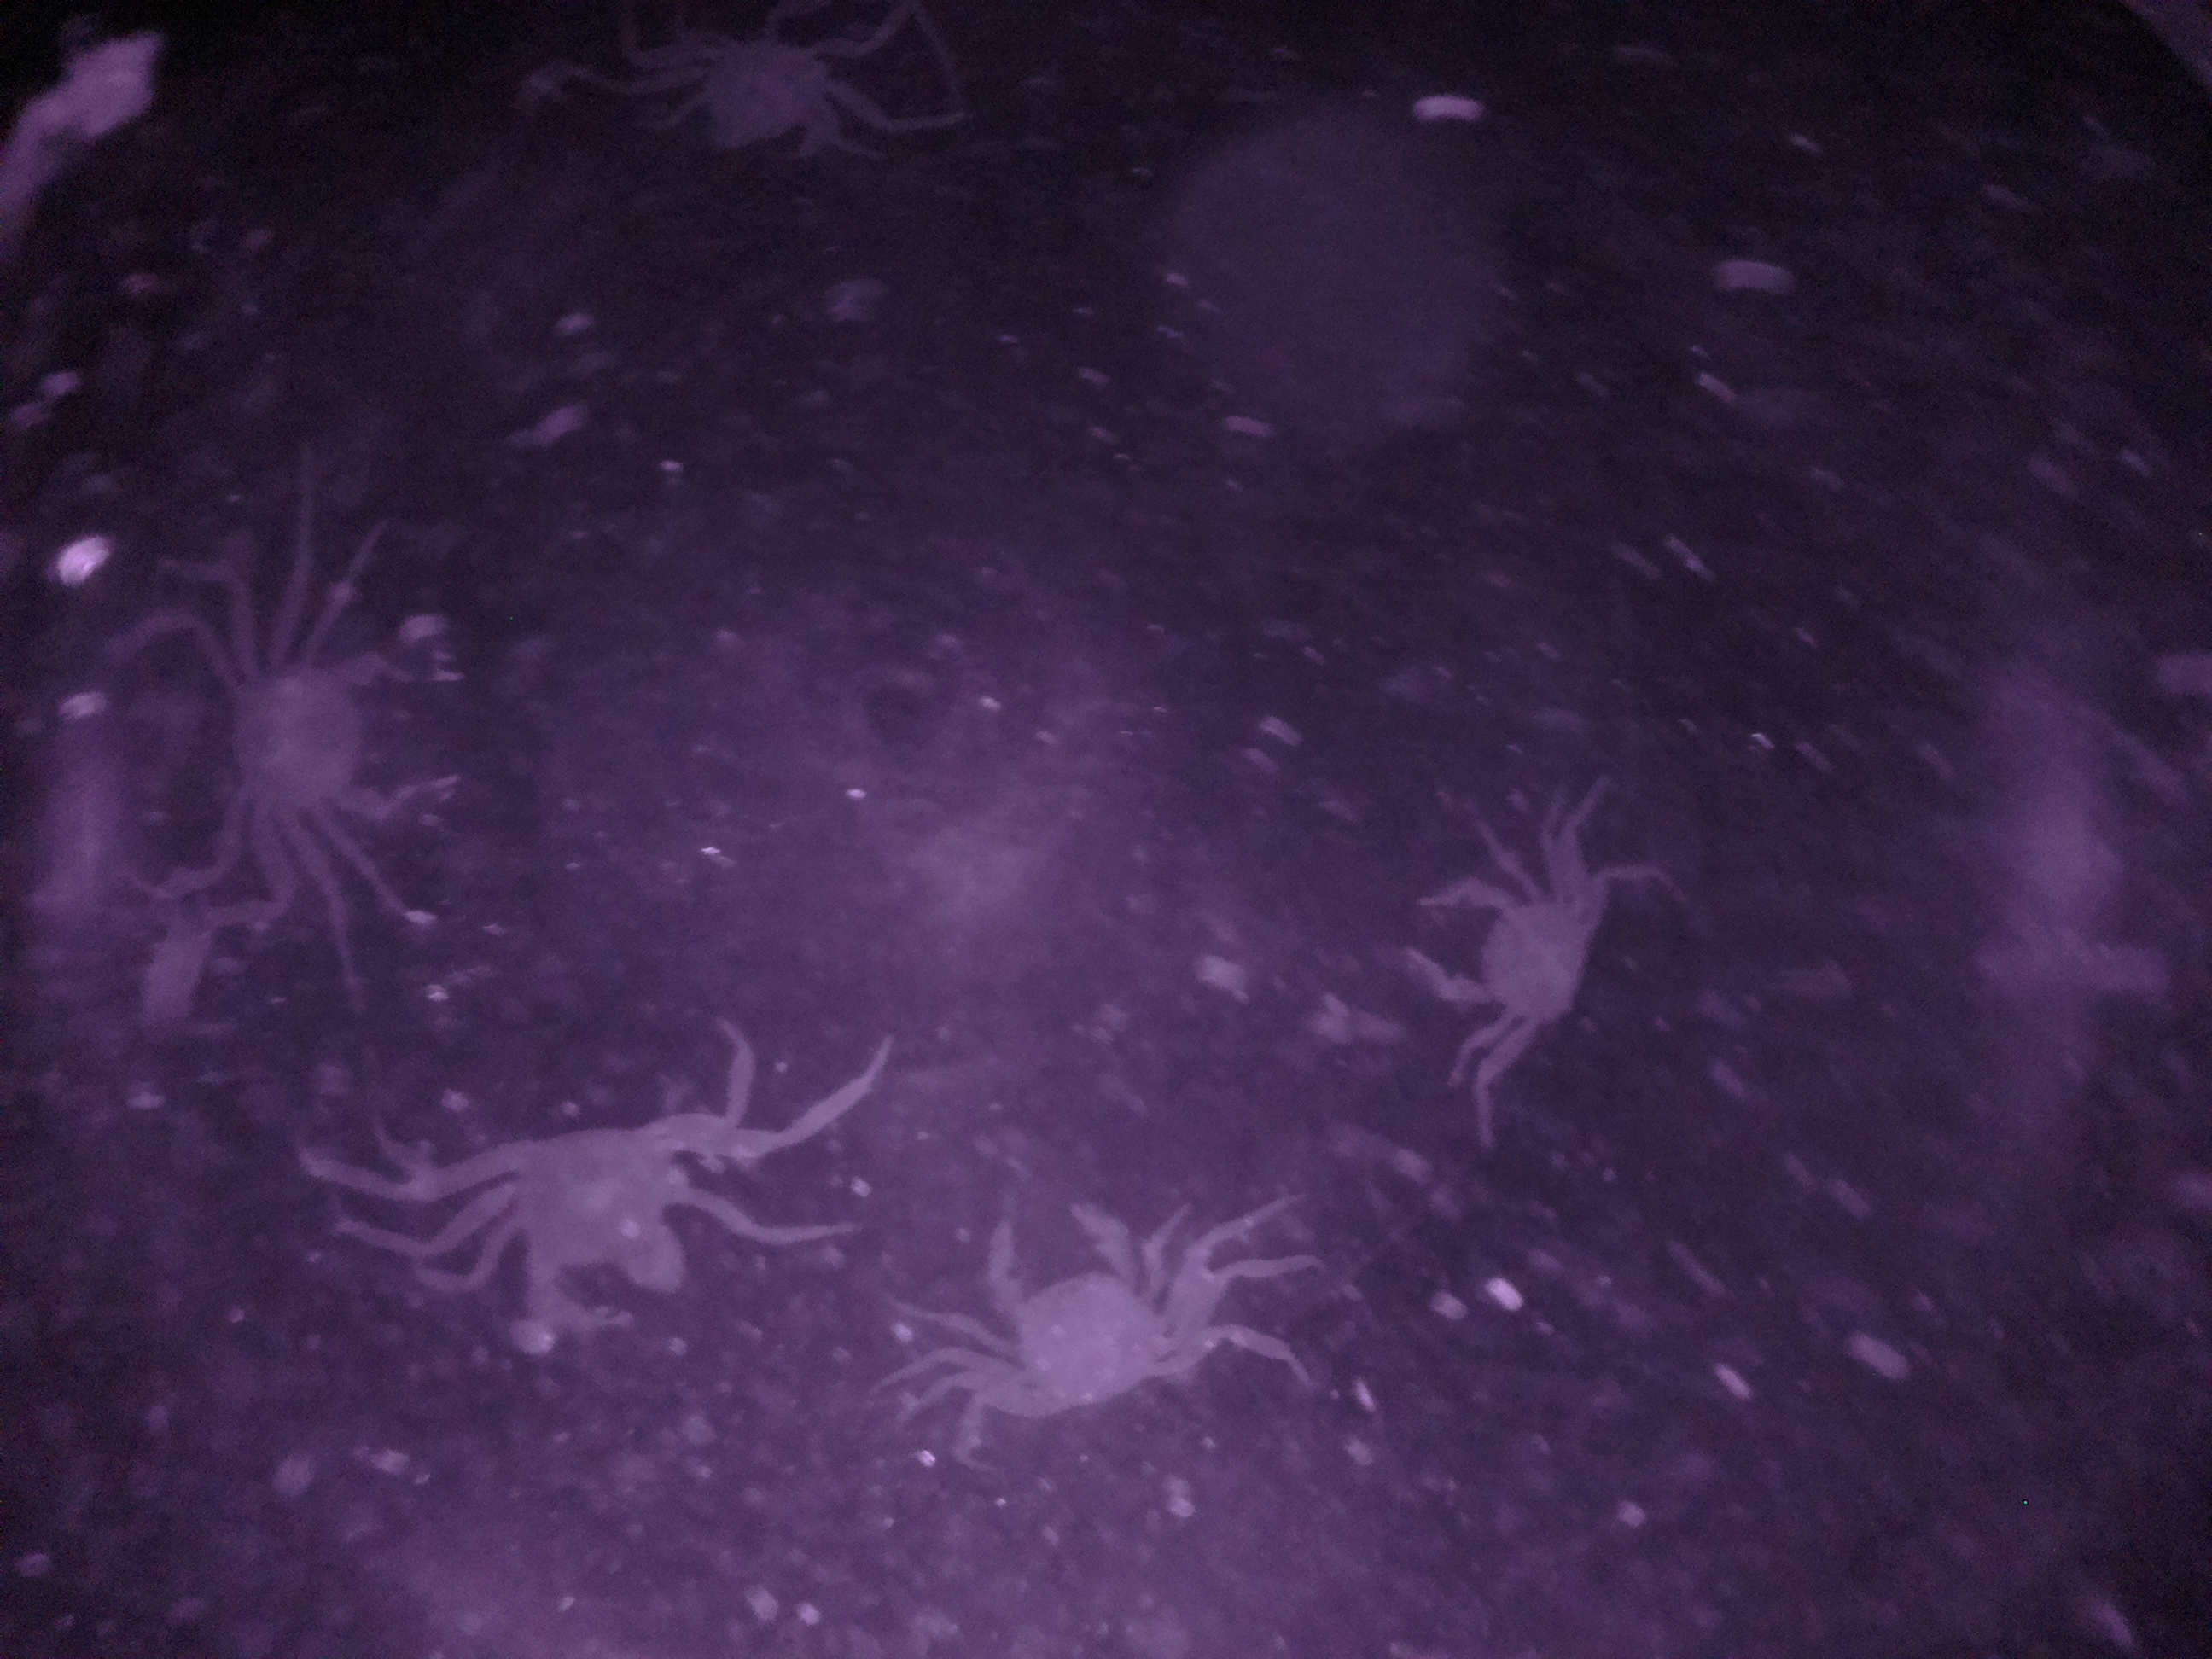Crab: (169, 608, 523, 892), (432, 1082, 759, 1356), (944, 1178, 1244, 1439), (1381, 835, 1630, 1060)
